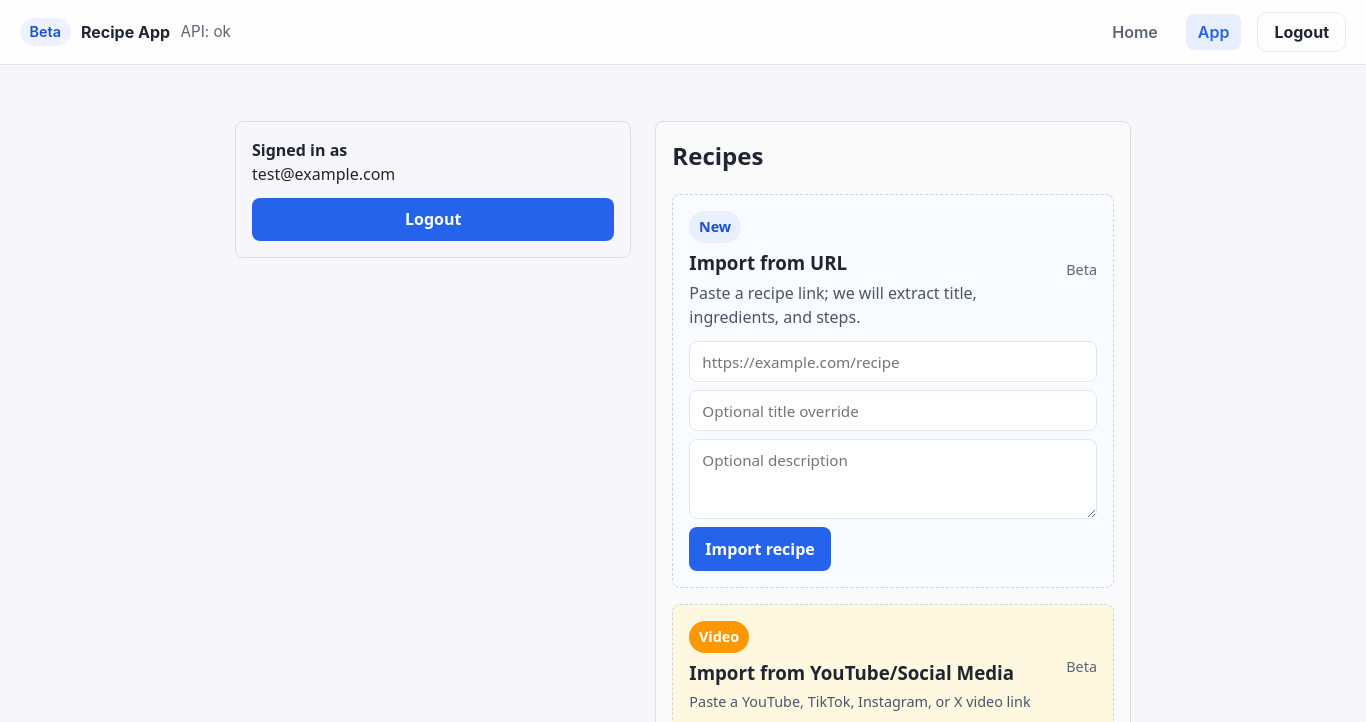
App routing and landing › imports a recipe from URL when authenticated
Step 1. Type "https://example.com/cake" into the field with placeholder "https://example.com/recipe" → (893, 362), box [689, 341, 1097, 382]
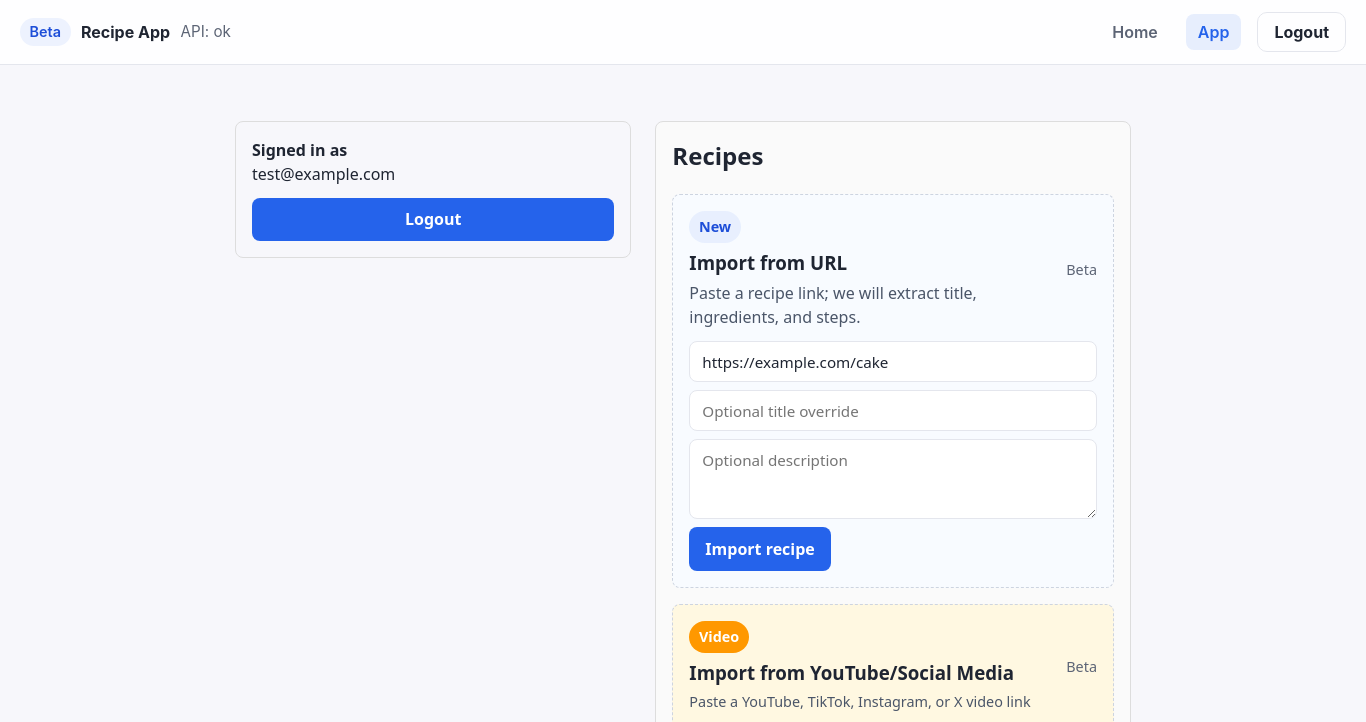
Step 2. Click the button "Import recipe" → (760, 549), box [689, 527, 831, 570]
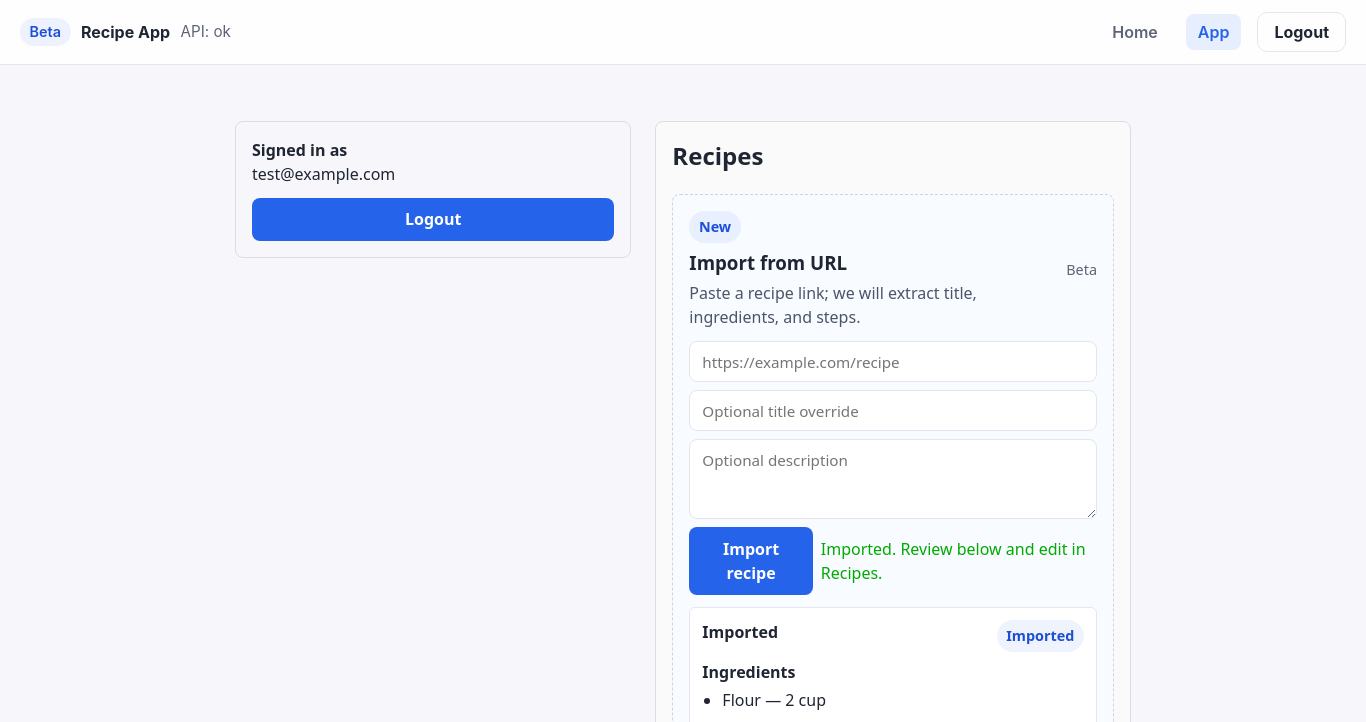
Expected: the text "Imported. Review below and edit in Recipes." is shown, [821, 537, 1097, 585]
